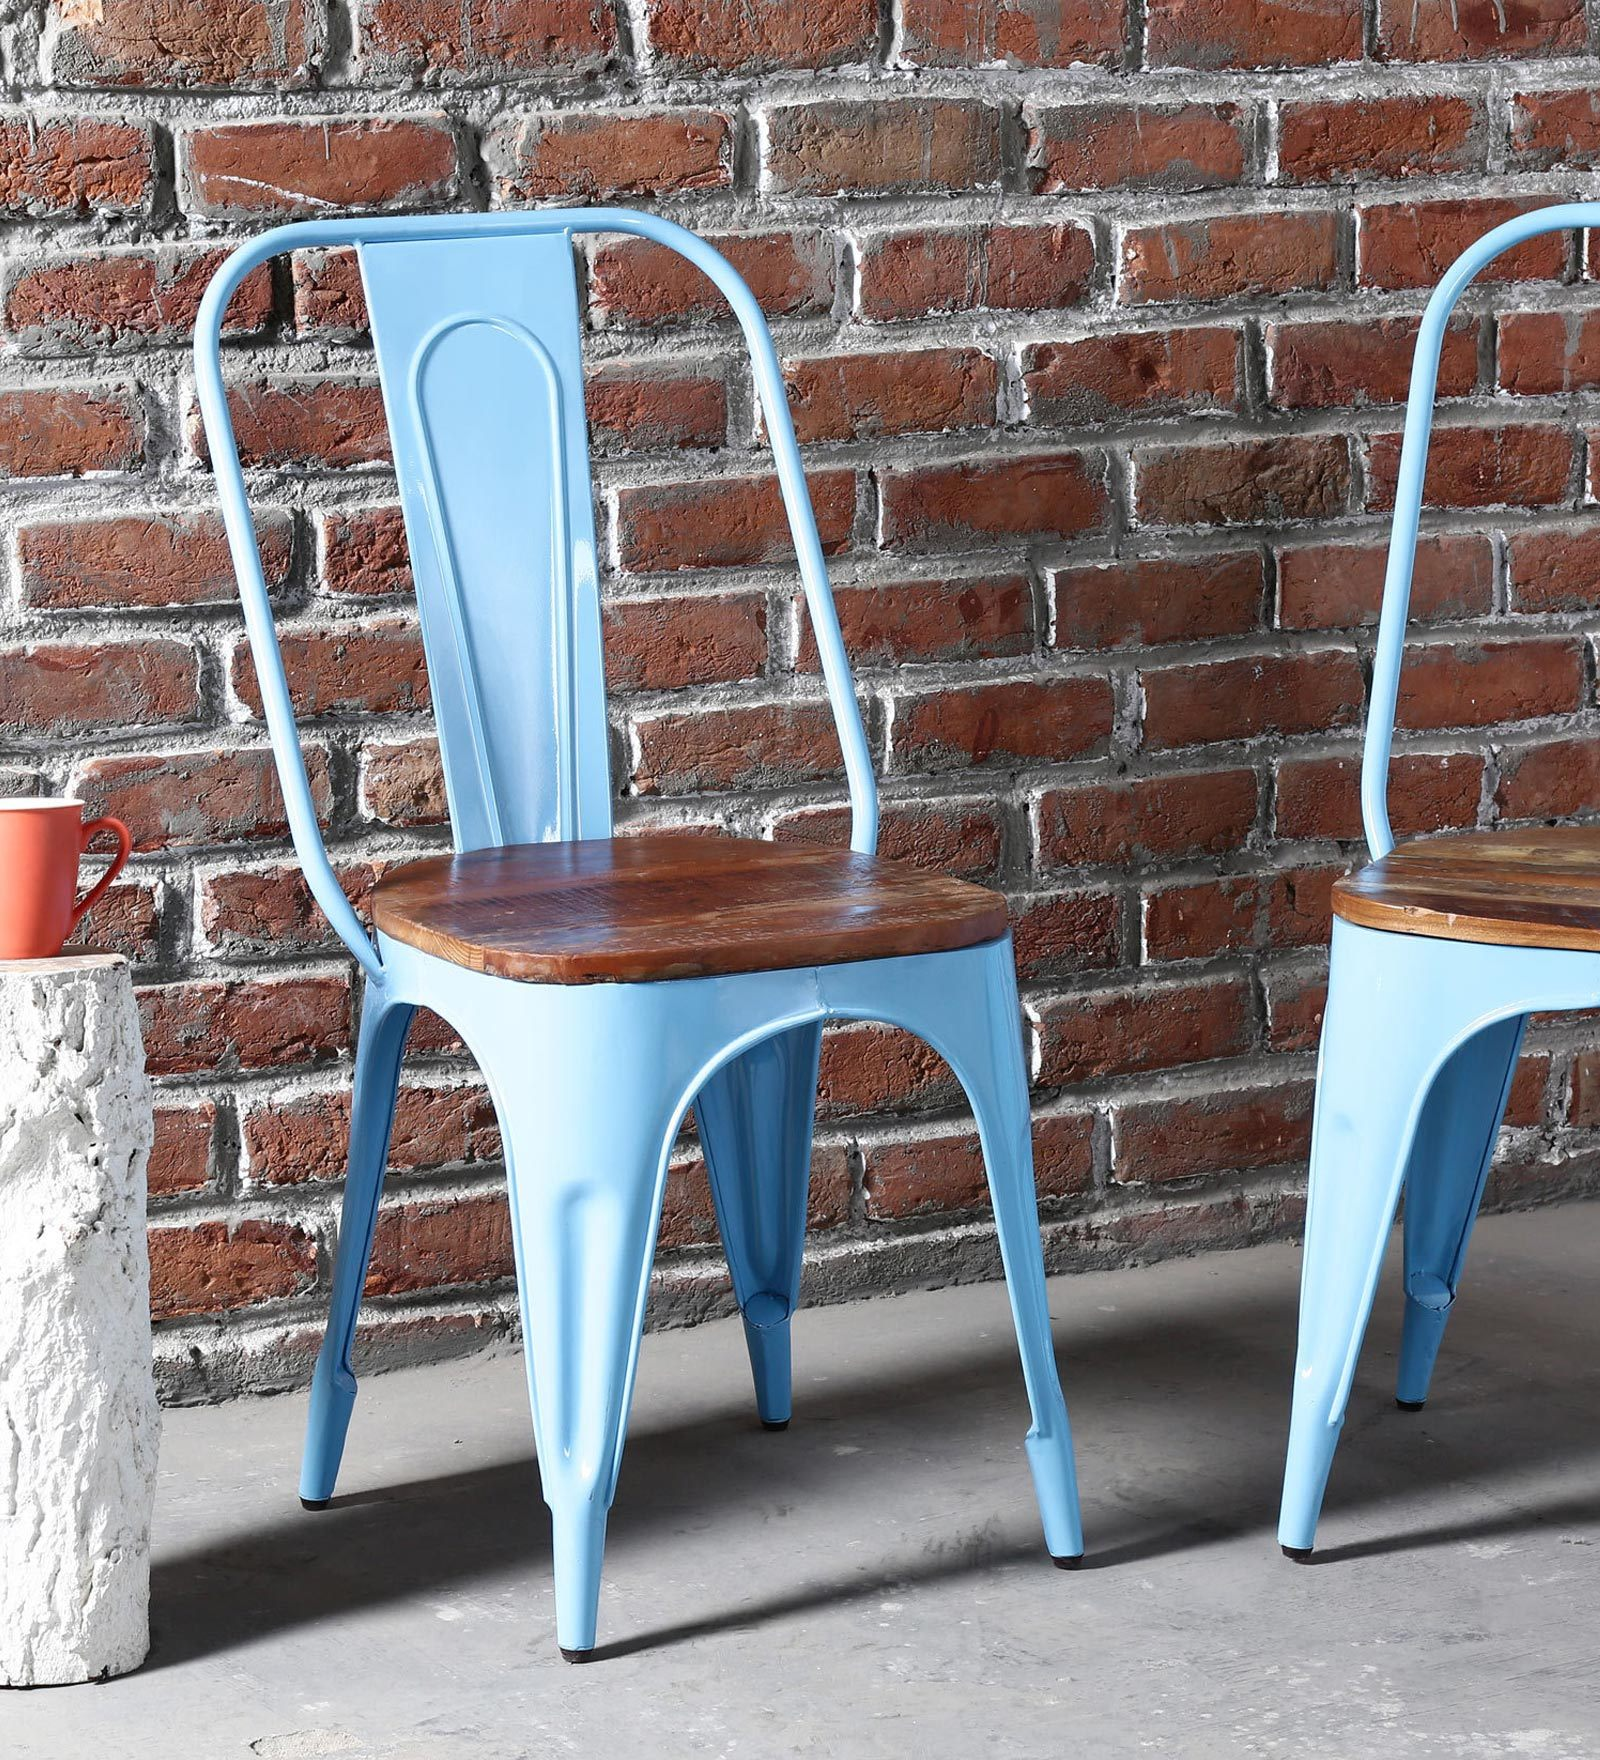Kumtor Metal Chair in Sky Blue Color with Wooden Seat by Bohemiana: (166, 189, 1600, 1703)
